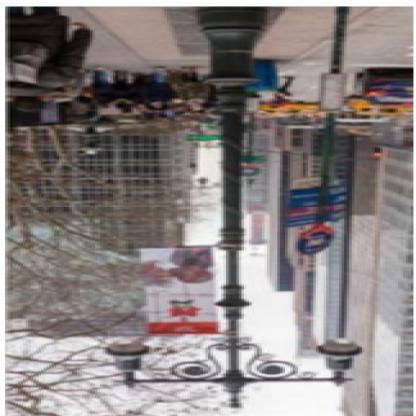Streetlights 1: (92, 6, 364, 413)
